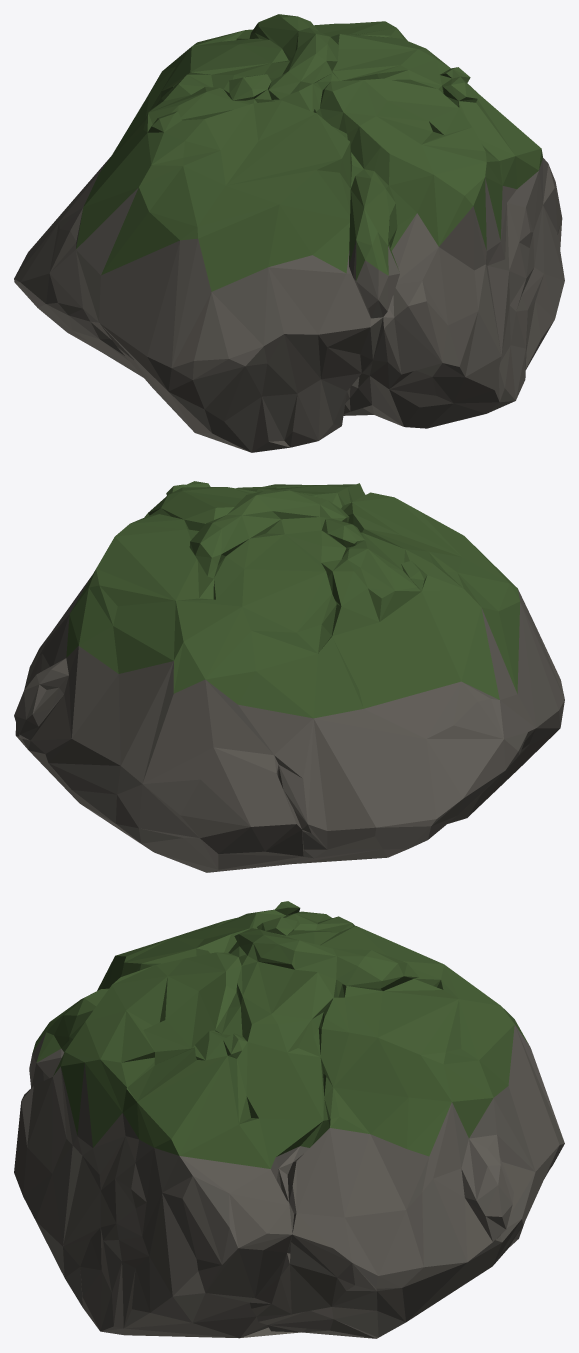
The model's file is rock-3.glb.
3 renders of one model, top to bottom at view 1: azimuth 30°, elevation 25°; view 2: azimuth 150°, elevation 25°; view 3: azimuth 270°, elevation 25°, orthographic. The views are drawn at different scales.
Parts seen in each view (by area): view 1: output_unwrapped; view 2: output_unwrapped; view 3: output_unwrapped.
Boxes of the visible parts, <box> form: output_unwrapped: <box>14,14,564,452</box>; output_unwrapped: <box>14,481,564,872</box>; output_unwrapped: <box>14,901,564,1338</box>.
Size of the model in its own units: 2 by 1.33 by 1.92.
